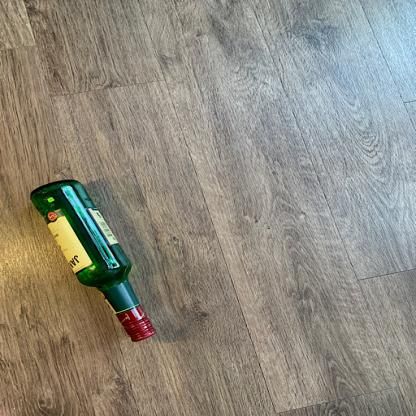trash: (24, 174, 158, 346)
